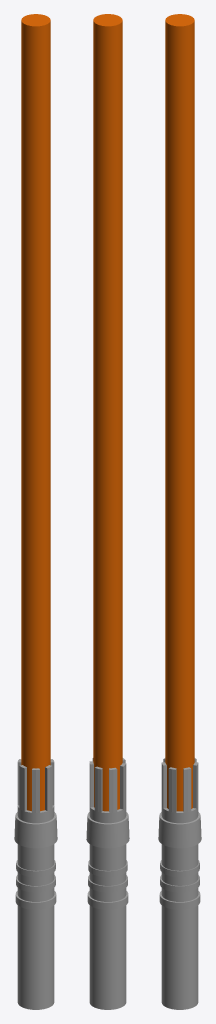
File: saber.fbx
3 views of the same model, side by side, from view 1: azimuth 90°, elevation 25°; view 2: azimuth 210°, elevation 25°; view 3: azimuth 270°, elevation 25° (orthographic).
Visible parts, largest first — view 1: pCylinder2, pCylinder1; view 2: pCylinder2, pCylinder1; view 3: pCylinder2, pCylinder1.
Part boxes in pixels (x1,y1,x2,y2): pCylinder2: (21, 14, 50, 811); pCylinder1: (14, 759, 57, 1009); pCylinder2: (93, 14, 122, 811); pCylinder1: (86, 758, 129, 1009); pCylinder2: (165, 14, 194, 811); pCylinder1: (158, 758, 201, 1009).
Bounding box in the file's own units: 11.74 × 295 × 11.74.
